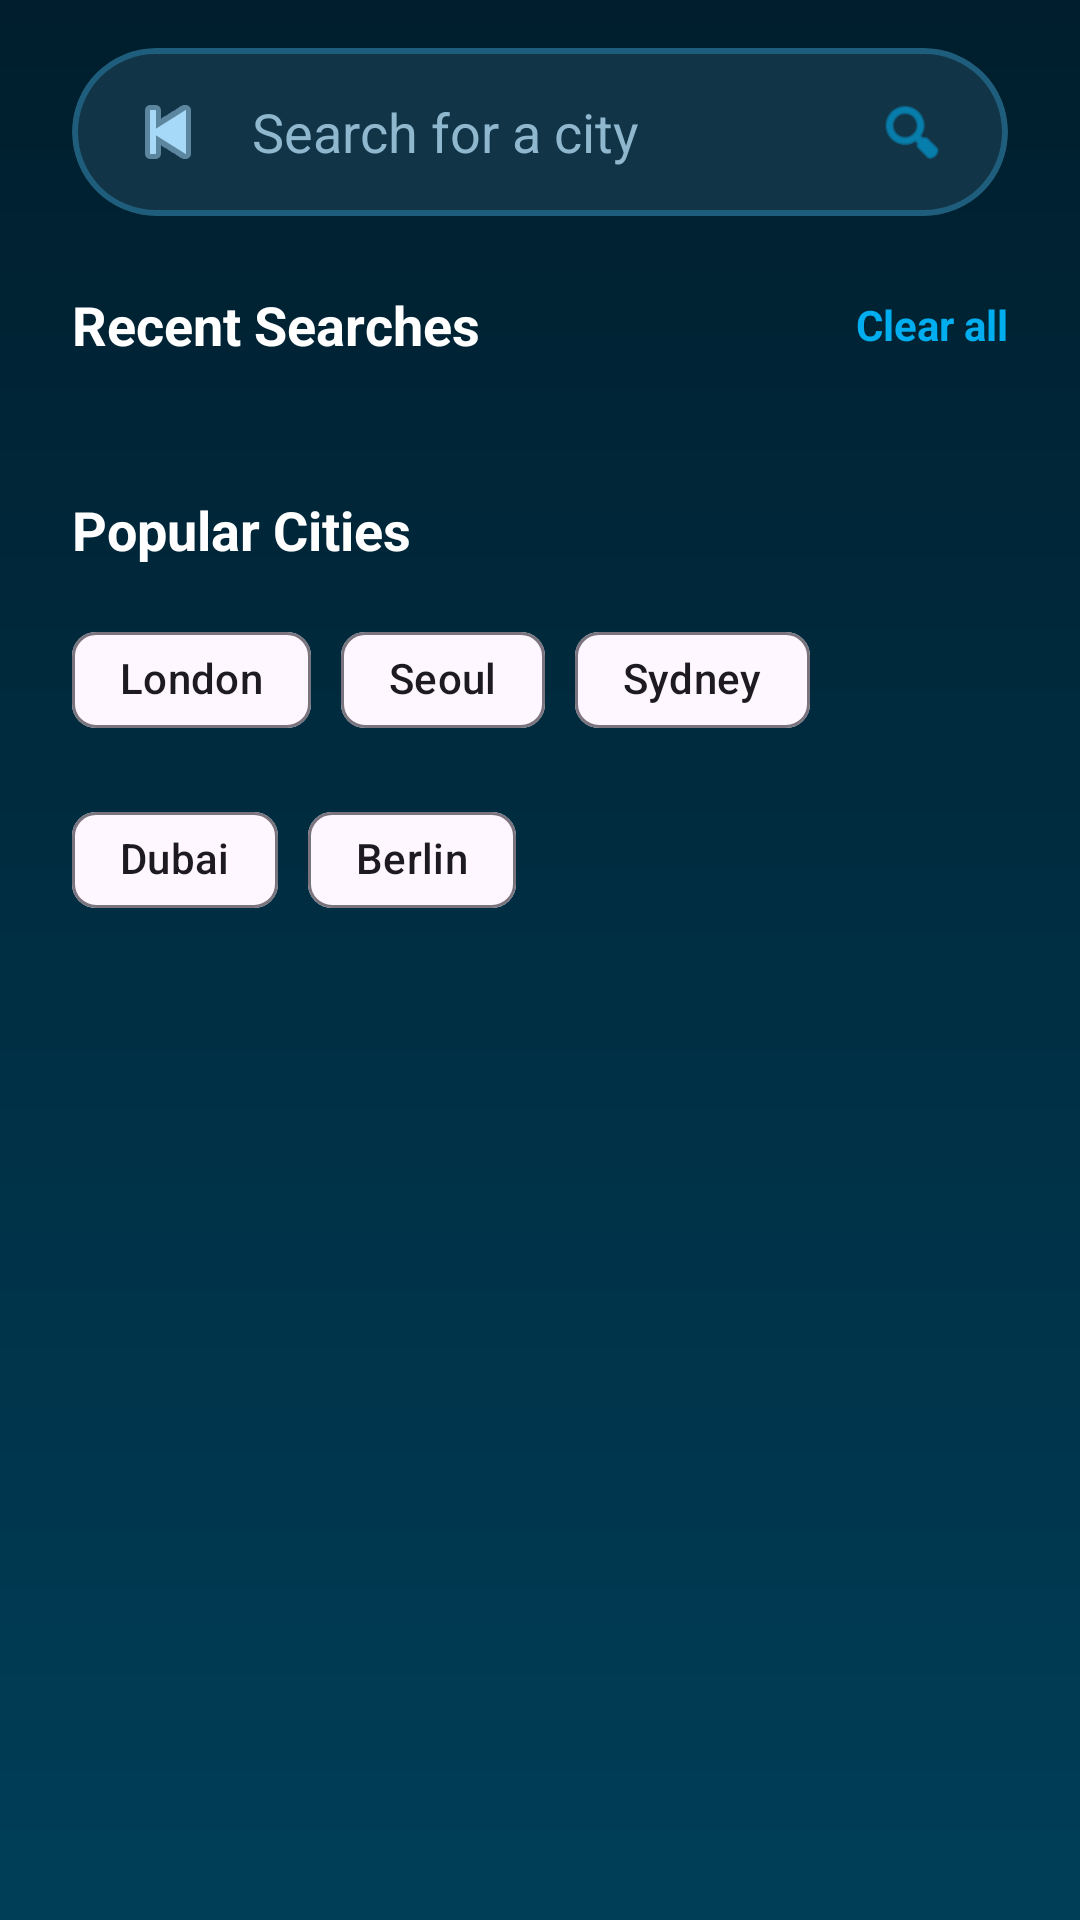

Icon click points for this 1080w x 1920h phone screenshot, format (x,y):
Back: (168,132)
